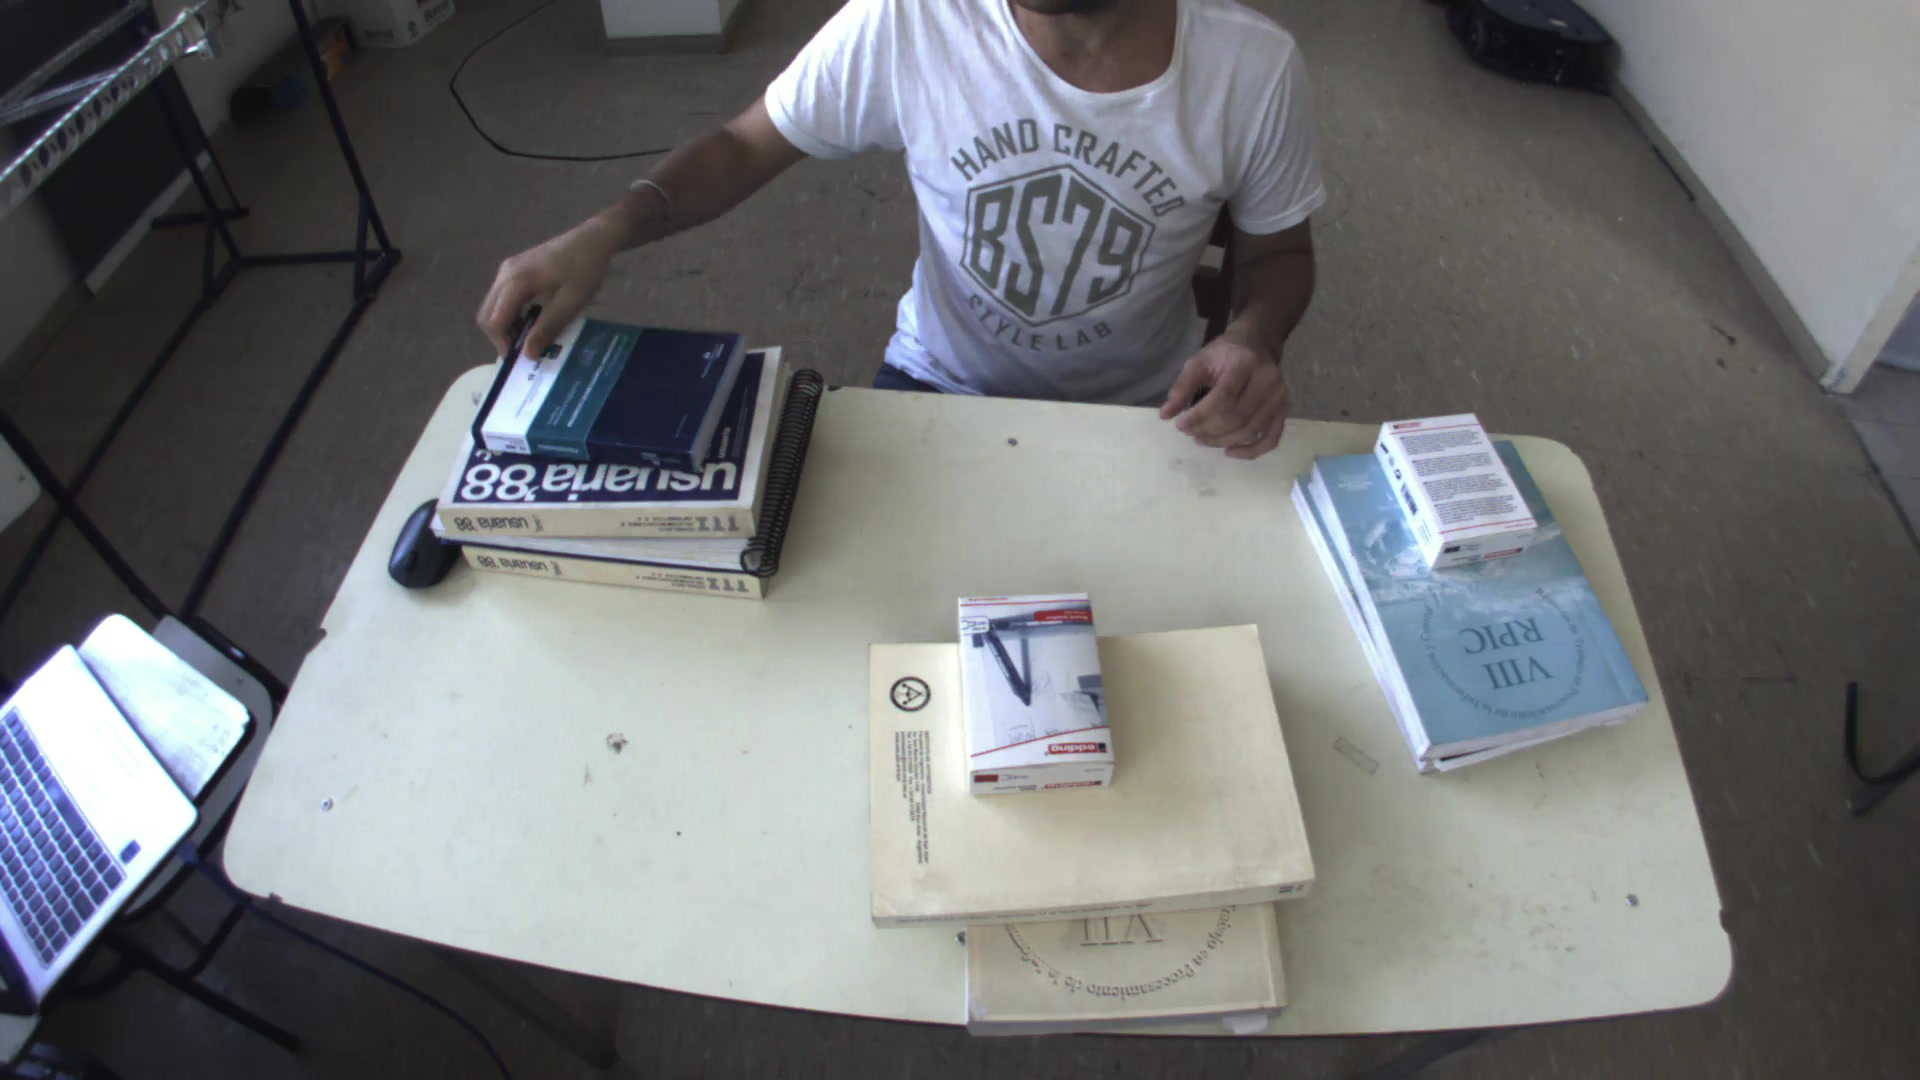hand: (465, 203, 615, 368), (1160, 324, 1302, 462)
